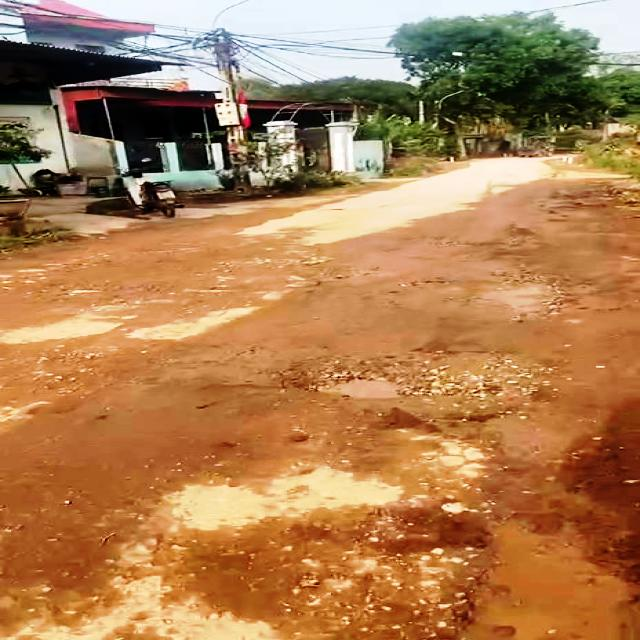pothole: (414, 511, 640, 640), (281, 343, 556, 419), (402, 272, 566, 318)
